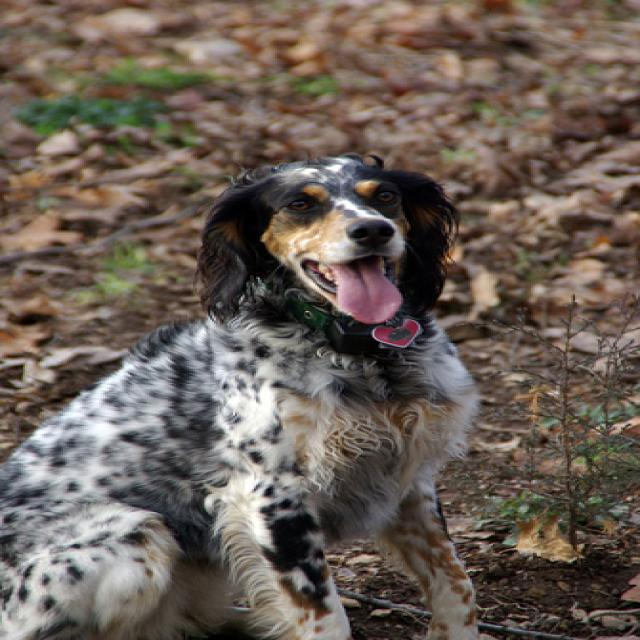dog: (195, 152, 443, 322)
